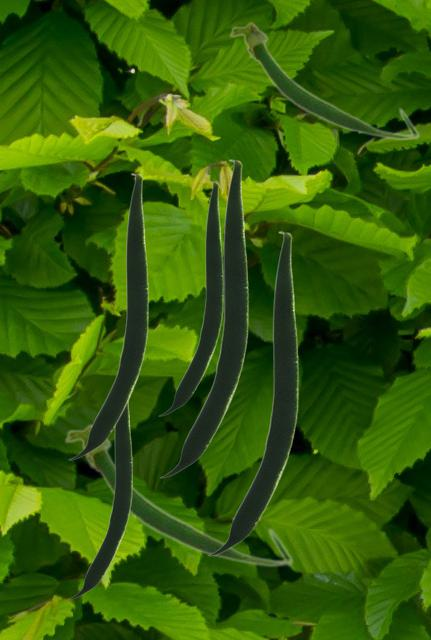french_bean: (63, 422, 293, 567), (207, 231, 297, 555), (159, 159, 247, 477), (228, 20, 419, 140), (68, 173, 147, 459), (158, 181, 222, 415), (68, 403, 131, 598)
